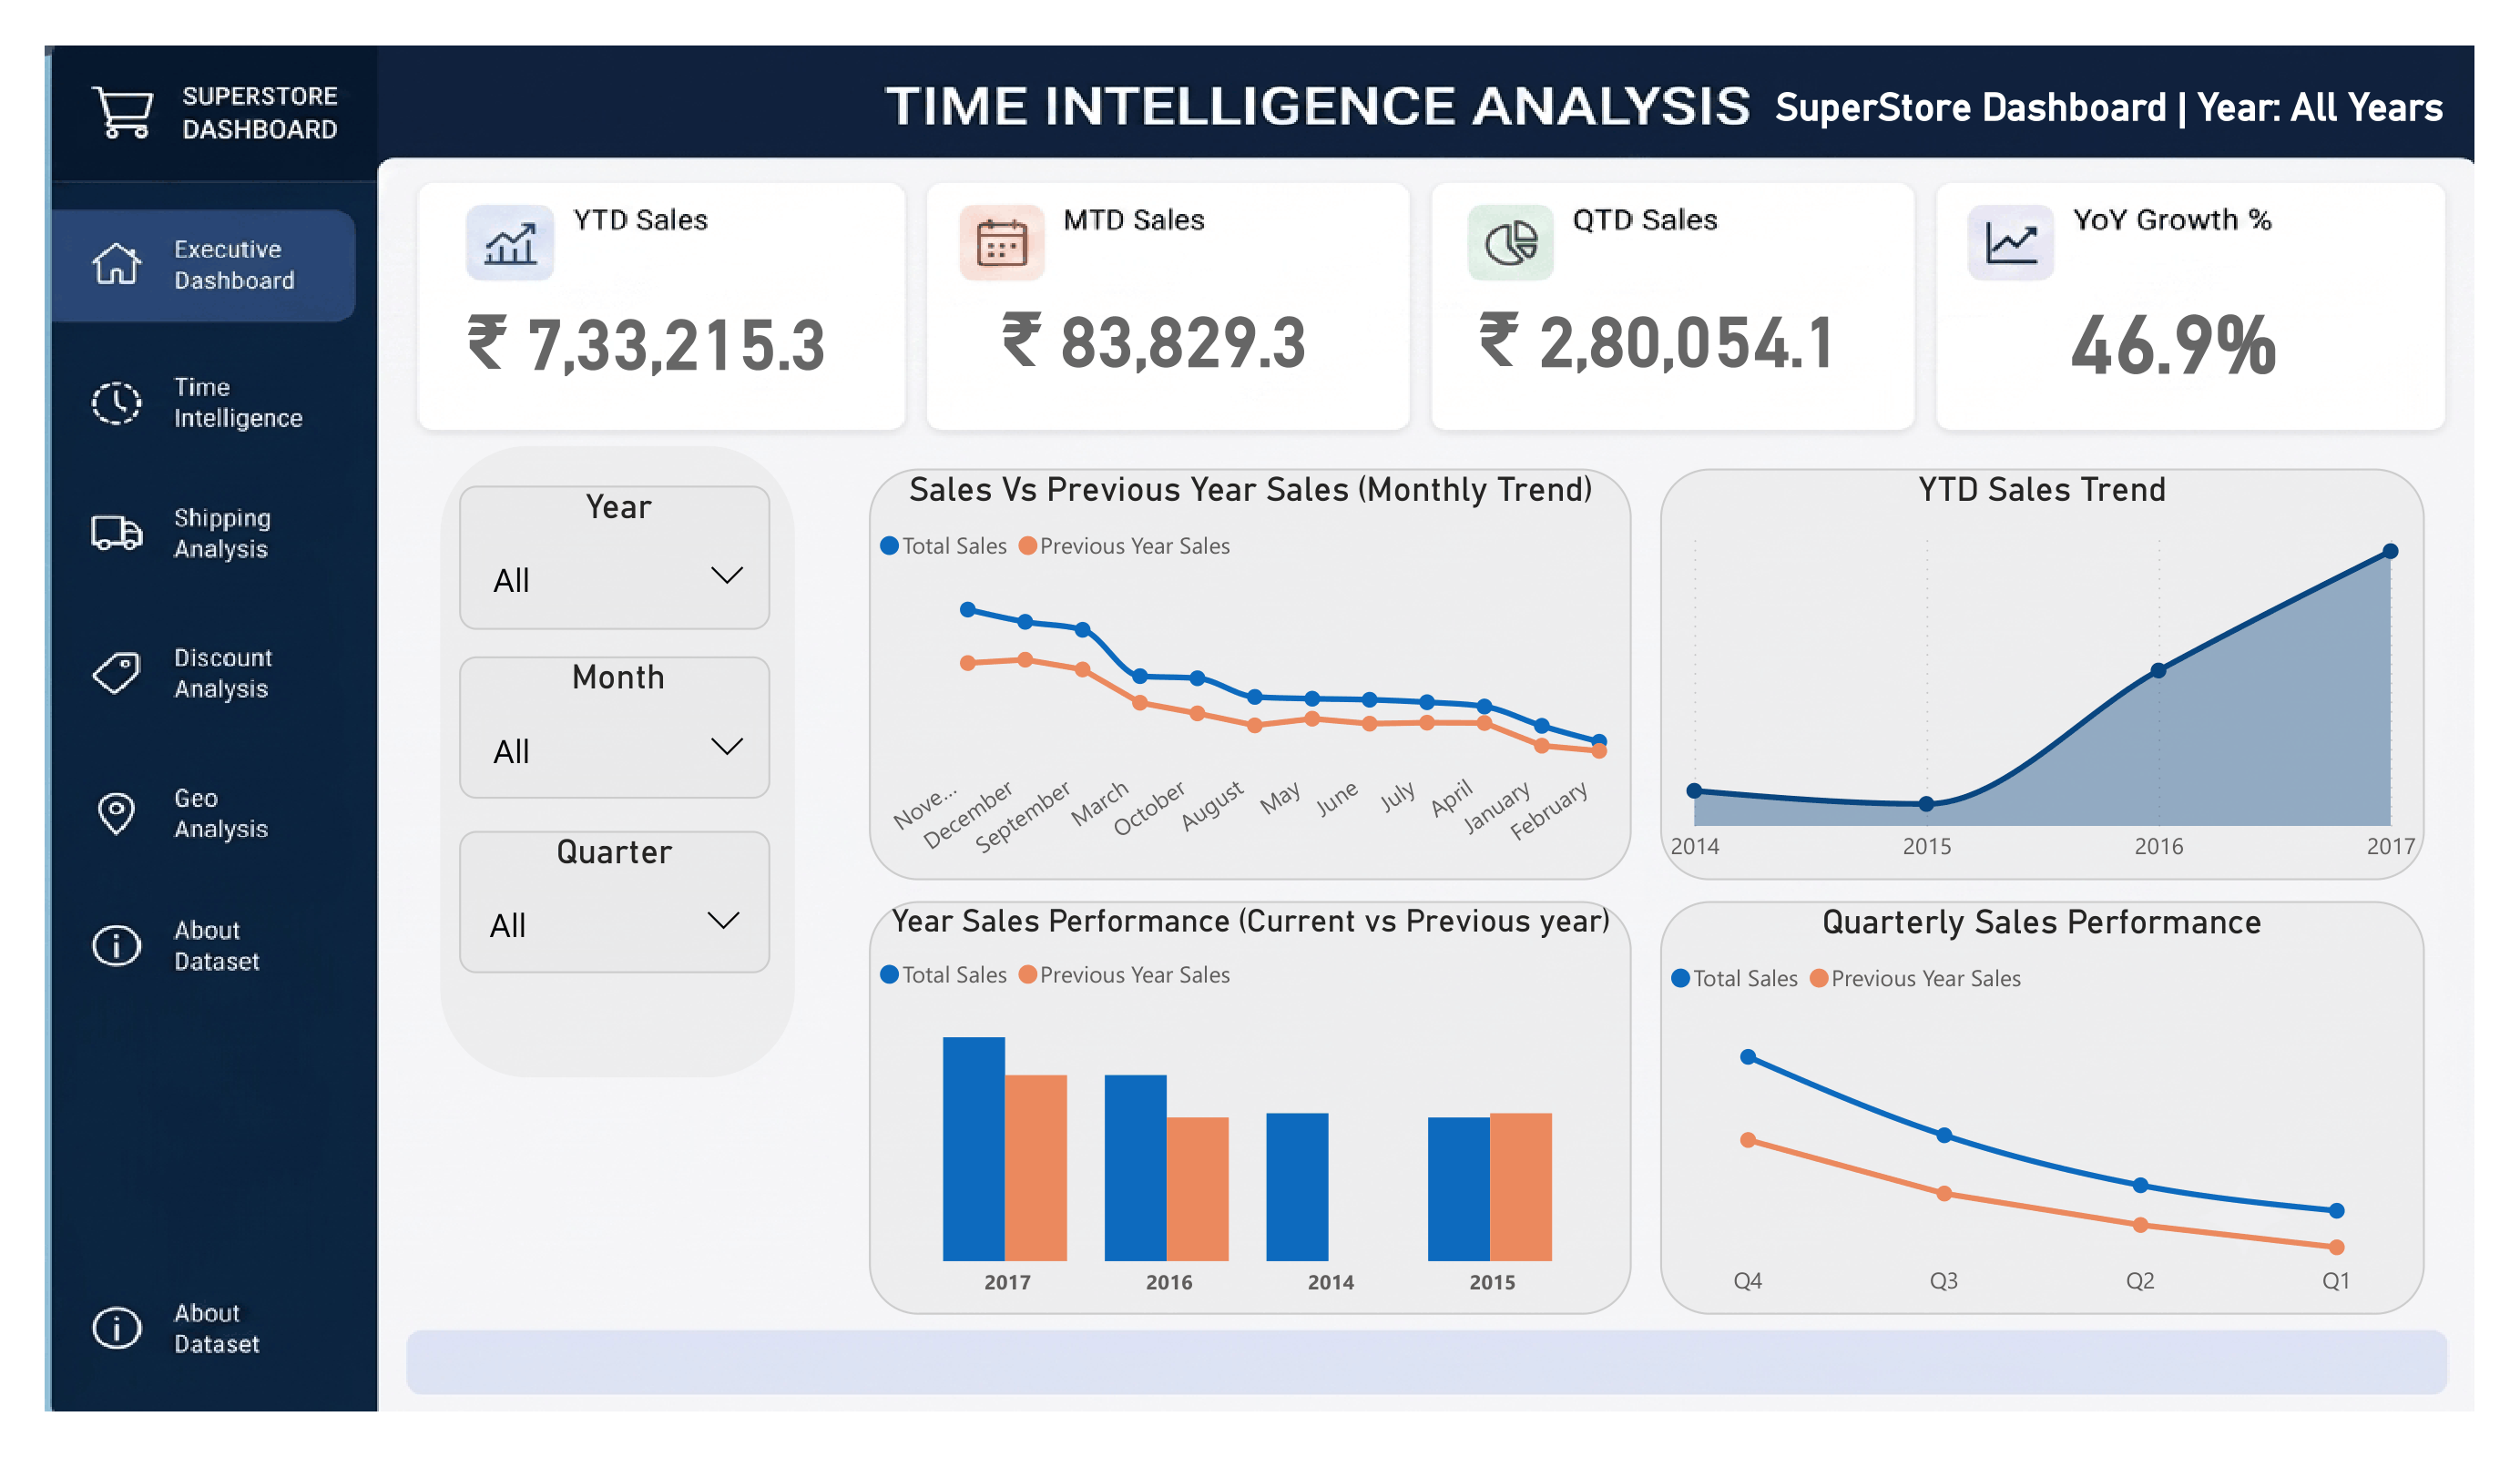

The dashboard page shown, as its layout file describes it:
{"tool":"powerbi","page":{"name":"Time Intelligence","canvas":[1280,720],"ordinal":1},"visuals":[{"type":"shape","box":[207.5,211.1,187,333],"z":0},{"type":"shape","box":[433.8,222.5,402.5,217.5],"z":1000},{"type":"shape","box":[851.2,222.5,402.5,217.5],"z":2000},{"type":"shape","box":[433.8,451.2,402.5,217.5],"z":3000},{"type":"shape","box":[851.2,451.2,402.5,217.5],"z":4000},{"type":"shape","box":[218.4,231.6,164.1,76],"z":5000},{"type":"shape","box":[218.4,322.1,164.1,74.8],"z":6000},{"type":"shape","box":[218.4,413.8,164.1,74.8],"z":7000},{"type":"lineChart","title":"Sales Vs Previous Year Sales (Monthly Trend)","fields":{"Y":["DateTable.Total Sales","DateTable.Previous Year Sales"],"Category":["DateTable.Month Name"]},"box":[433.8,222.5,402.5,217.5],"z":8000},{"type":"lineChart","title":"YTD Sales Trend","fields":{"Y":["DateTable.YTD"],"Category":["DateTable.year"]},"box":[851.2,222.5,402.5,217.5],"z":9000},{"type":"clusteredColumnChart","title":"Year Sales Performance (Current vs Previous year)","fields":{"Category":["DateTable.year"],"Y":["DateTable.Total Sales","DateTable.Previous Year Sales"]},"box":[433.8,451.2,402.5,217.5],"z":10000},{"type":"lineChart","title":"Quarterly Sales Performance","fields":{"Y":["DateTable.Total Sales","DateTable.Previous Year Sales"],"Category":["DateTable.Quarter"]},"box":[851.2,451.2,402.5,217.5],"z":11000},{"type":"card","fields":{"Values":["DateTable.YTD"]},"box":[196.2,117.5,241.2,73.8],"z":12000},{"type":"card","fields":{"Values":["DateTable.MTD"]},"box":[463.8,116.2,241.2,73.8],"z":13000},{"type":"card","fields":{"Values":["DateTable.QTD"]},"box":[730,116.2,241.2,73.8],"z":14000},{"type":"card","fields":{"Values":["DateTable.YOY growth %"]},"box":[1001.2,116.2,241.2,73.8],"z":15000},{"type":"slicer","title":"Year","fields":{"Values":["DateTable.year"]},"box":[219.6,231.6,164.1,76],"z":16000},{"type":"slicer","title":"Month","fields":{"Values":["DateTable.Month Name"]},"box":[219.6,322.1,164.1,74.8],"z":17000},{"type":"slicer","title":"Quarter","fields":{"Values":["DateTable.Quarter"]},"box":[218.4,413.8,164.1,74.8],"z":17001},{"type":"card","fields":{"Values":["DateTable.Dashboard Title"]},"box":[906,0,364.3,63.9],"z":17003}]}

Visuals, with their boxes on the page's 1280x720 design canvas (x1, y1, x2, y2). These are canvas units, not pixel positions in the 2520x1457 screenshot, which may show the page scaled, cropped or inside an application window:
shape: rect(208, 211, 394, 544)
shape: rect(434, 222, 836, 440)
shape: rect(851, 222, 1254, 440)
shape: rect(434, 451, 836, 669)
shape: rect(851, 451, 1254, 669)
shape: rect(218, 232, 382, 308)
shape: rect(218, 322, 382, 397)
shape: rect(218, 414, 382, 489)
"Sales Vs Previous Year Sales (Monthly Trend)" lineChart: rect(434, 222, 836, 440)
"YTD Sales Trend" lineChart: rect(851, 222, 1254, 440)
"Year Sales Performance (Current vs Previous year)" clusteredColumnChart: rect(434, 451, 836, 669)
"Quarterly Sales Performance" lineChart: rect(851, 451, 1254, 669)
card - DateTable.YTD: rect(196, 118, 437, 191)
card - DateTable.MTD: rect(464, 116, 705, 190)
card - DateTable.QTD: rect(730, 116, 971, 190)
card - DateTable.YOY growth %: rect(1001, 116, 1242, 190)
"Year" slicer: rect(220, 232, 384, 308)
"Month" slicer: rect(220, 322, 384, 397)
"Quarter" slicer: rect(218, 414, 382, 489)
card - DateTable.Dashboard Title: rect(906, 0, 1270, 64)
